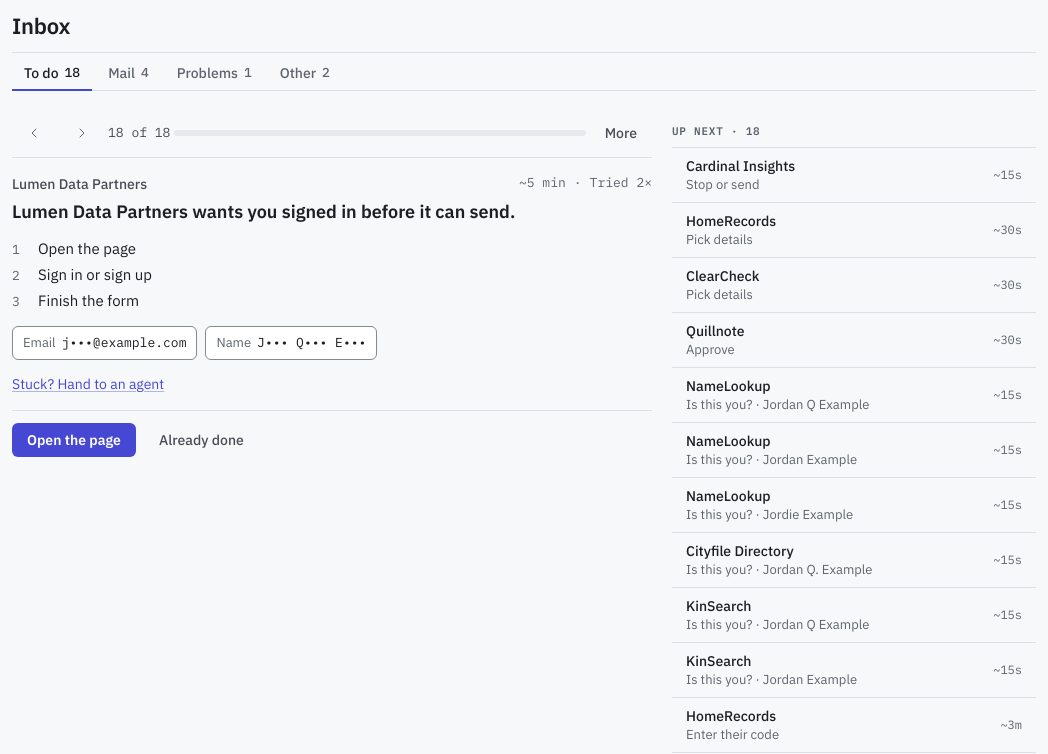
it: did it work › offers to hand it to an agent after two tries, once, when an agent is connected
Expected: the button "Stuck? Hand to an agent" is shown, [12,374,164,394]
Click the button "More": (621, 133) [590,111,652,155]
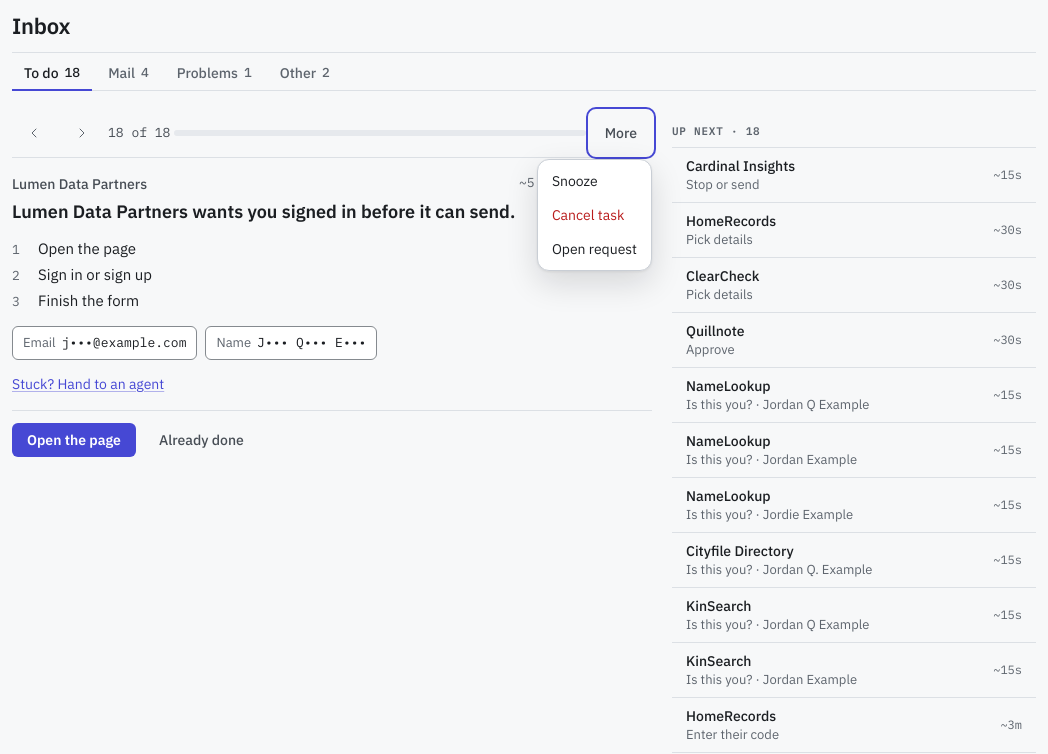
Now the menu item "Snooze" is shown, box [542,164,647,198]
